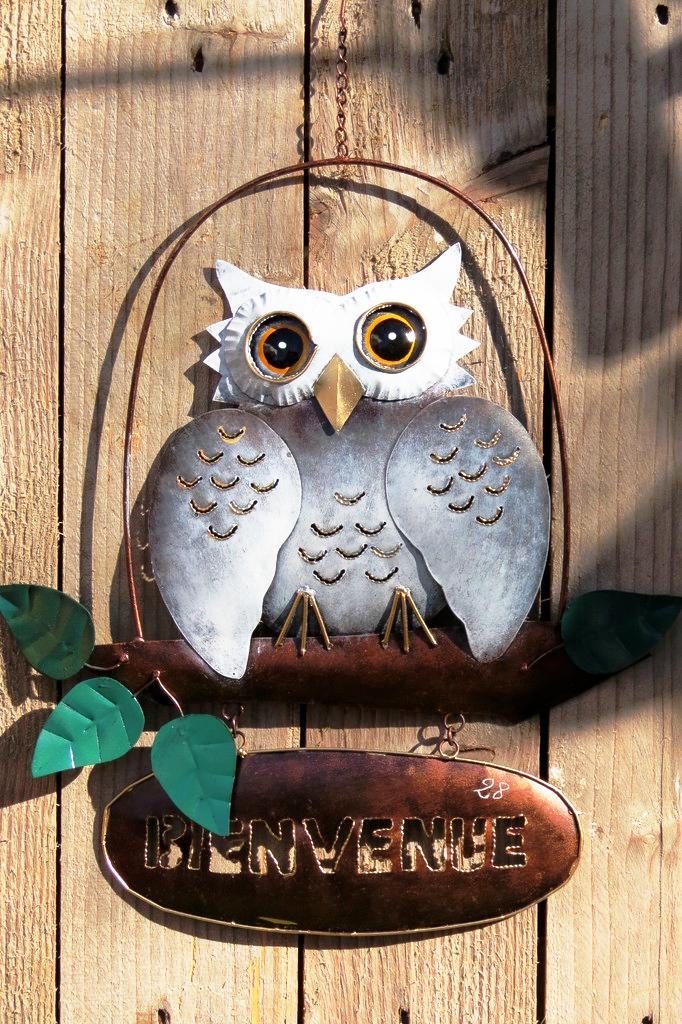Owl: (139, 242, 548, 678)
